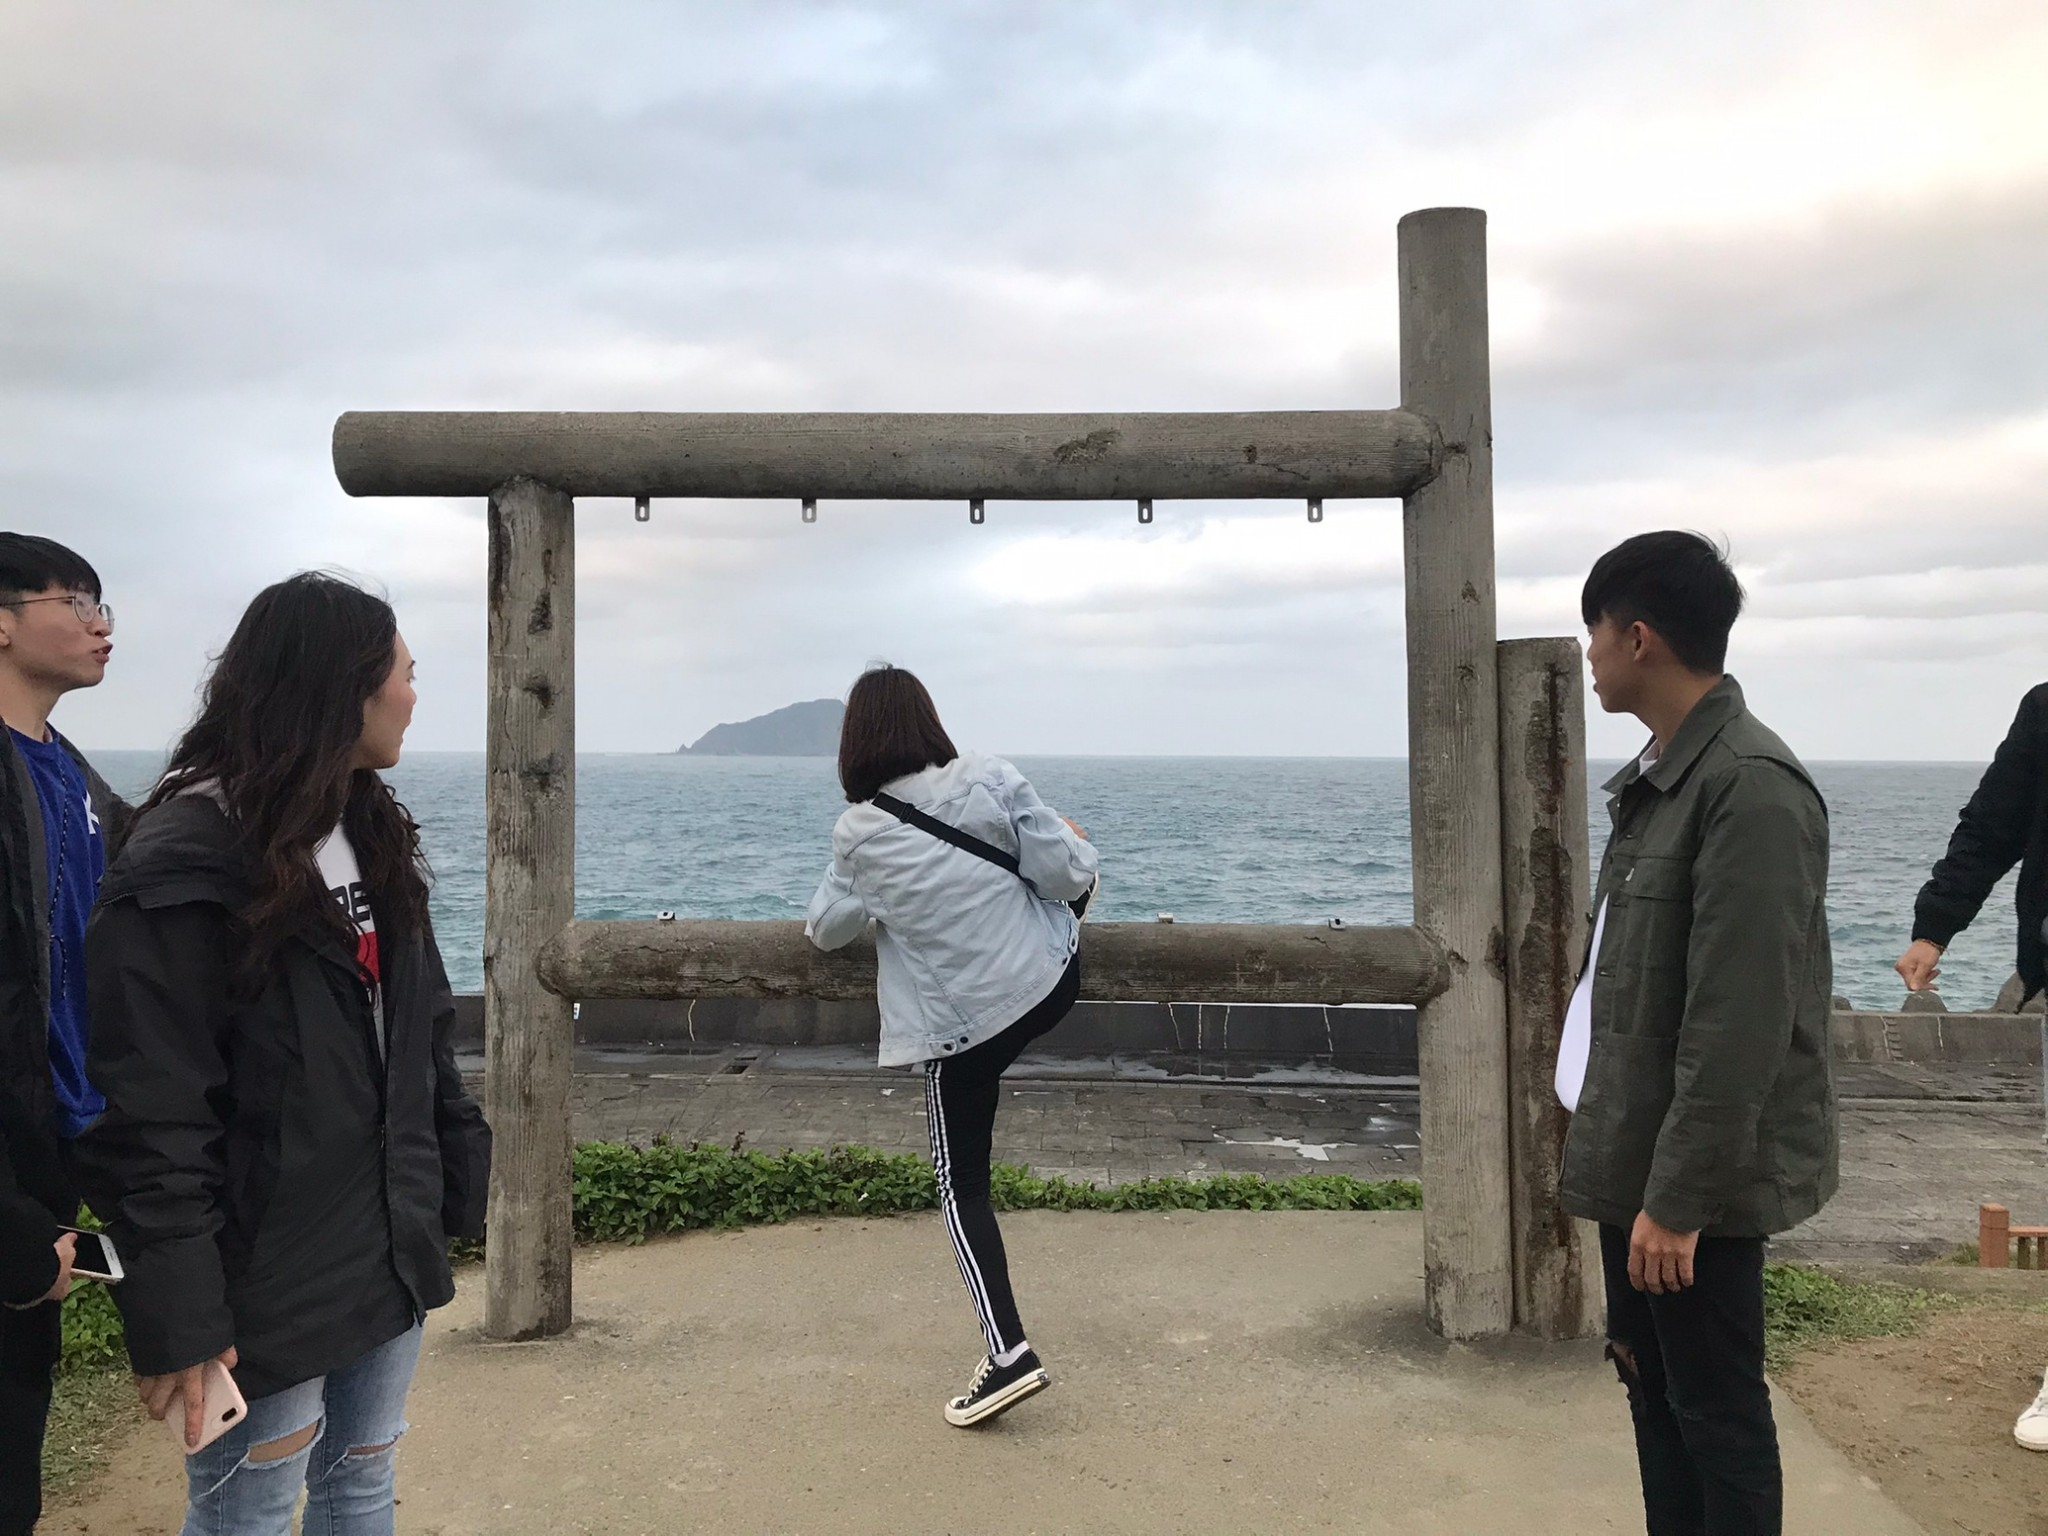people: (119, 578, 452, 1536), (1563, 534, 1813, 1536), (816, 658, 1060, 1422), (2, 525, 146, 1536), (1960, 631, 2048, 1466)
